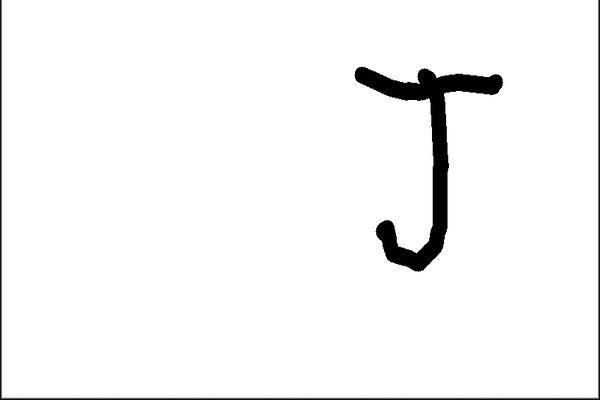J: (343, 55, 508, 276)
